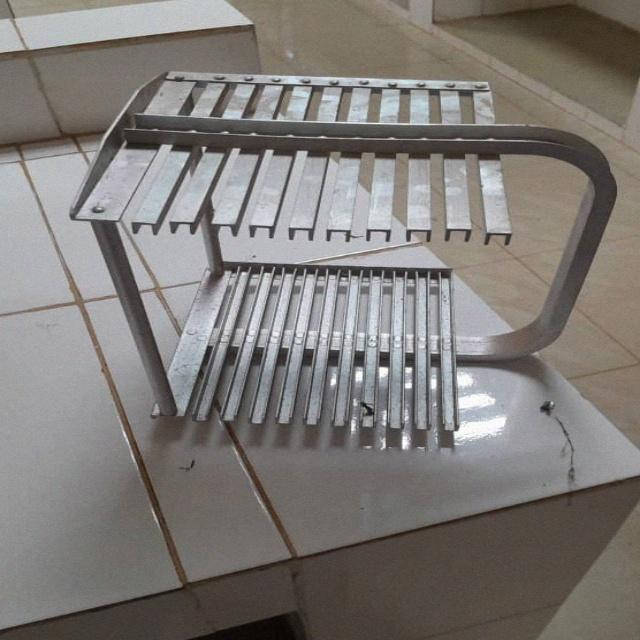Plate Rack: (59, 62, 619, 446)
